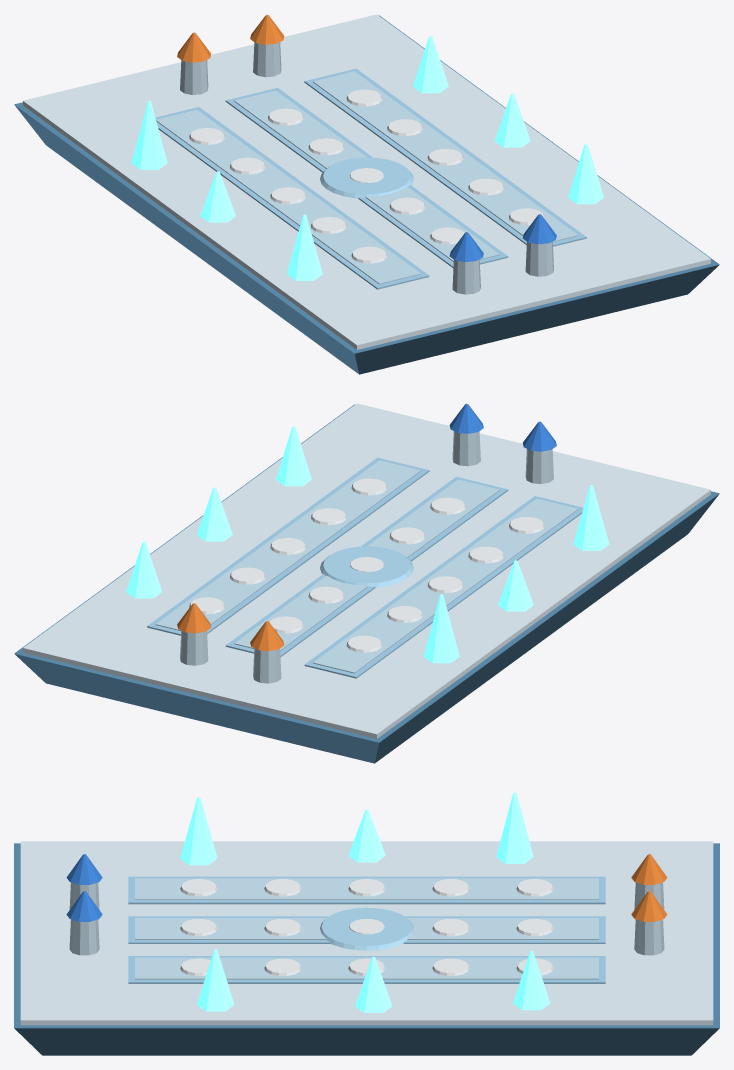
File: field-ice-v2.glb
The picture shows the model from 3 angles, top to bottom: view 1: azimuth 30°, elevation 25°; view 2: azimuth 150°, elevation 25°; view 3: azimuth 270°, elevation 25°; orthographic projection. The views are drawn at different scales.
Parts seen in each view (by area): view 1: Deck_Top, Island_Base, LanePath_0, LanePath_2, LanePath_1, LaneCurb_0, LaneCurb_2, Monster_Plaza, LaneCurb_1, Crystal_2, Crystal_0, Crystal_1 (+11 smaller); view 2: Deck_Top, Island_Base, LanePath_0, LanePath_2, LanePath_1, LaneCurb_0, LaneCurb_2, Monster_Plaza, LaneCurb_1, Crystal_2, Crystal_0, Crystal_1 (+11 smaller); view 3: Deck_Top, Island_Base, LanePath_2, LanePath_0, LanePath_1, LaneCurb_0, LaneCurb_2, Monster_Plaza, LaneCurb_1, Crystal_2, Crystal_0, Crystal_1 (+24 smaller).
Part boxes in pixels (box(x1,y1,x2,y2)): Deck_Top: box(23, 14, 710, 349); Island_Base: box(14, 15, 719, 374); LanePath_0: box(156, 109, 420, 284); LanePath_2: box(313, 71, 578, 241); LanePath_1: box(234, 90, 499, 261); LaneCurb_0: box(155, 107, 429, 289); LaneCurb_2: box(304, 68, 586, 246); Monster_Plaza: box(320, 157, 413, 198); LaneCurb_1: box(225, 87, 508, 267); Crystal_2: box(131, 101, 167, 169); Crystal_0: box(286, 214, 322, 280); Crystal_1: box(568, 144, 603, 204); Deck_Top: box(23, 403, 710, 738); Island_Base: box(14, 404, 719, 763); LanePath_0: box(313, 498, 578, 673); LanePath_2: box(155, 460, 420, 630); LanePath_1: box(234, 479, 499, 650); LaneCurb_0: box(304, 496, 583, 678); LaneCurb_2: box(147, 457, 429, 635); Monster_Plaza: box(320, 546, 413, 587); LaneCurb_1: box(225, 476, 508, 656); Crystal_2: box(423, 594, 459, 663); Crystal_0: box(573, 485, 609, 550); Crystal_1: box(276, 426, 311, 486); Deck_Top: box(20, 841, 713, 1025); Island_Base: box(14, 843, 719, 1055); LanePath_2: box(135, 957, 598, 979); LanePath_0: box(135, 878, 598, 899); LanePath_1: box(135, 918, 598, 939); LaneCurb_0: box(128, 876, 605, 904); LaneCurb_2: box(128, 956, 605, 983); Monster_Plaza: box(320, 907, 413, 950); LaneCurb_1: box(128, 916, 605, 943); Crystal_2: box(496, 792, 533, 863); Crystal_0: box(180, 797, 217, 865); Crystal_1: box(197, 949, 234, 1011).
Bounding box in the file's own units: 13 × 3.46 × 21.
